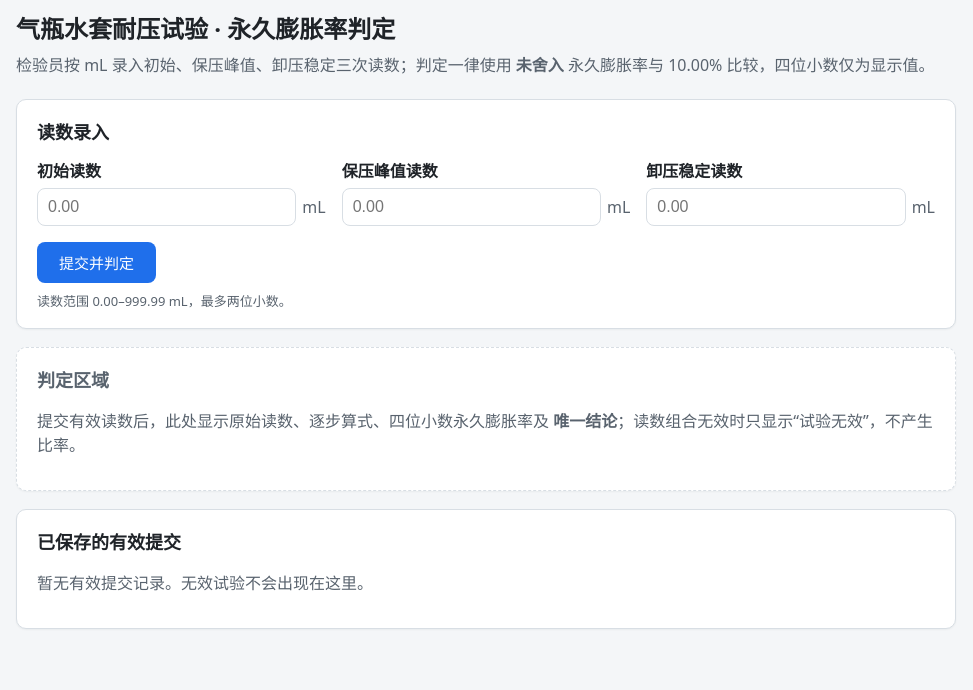
Test: App 判定流程（fetch 为接缝，展示与交互全真实） › 本地形态校验：三位小数与超范围读数不发起请求
Type "1.234" into the field with test id "input-initial".
click(167, 207); type("1.234")  # box x1=37 y1=188 x2=296 y2=226
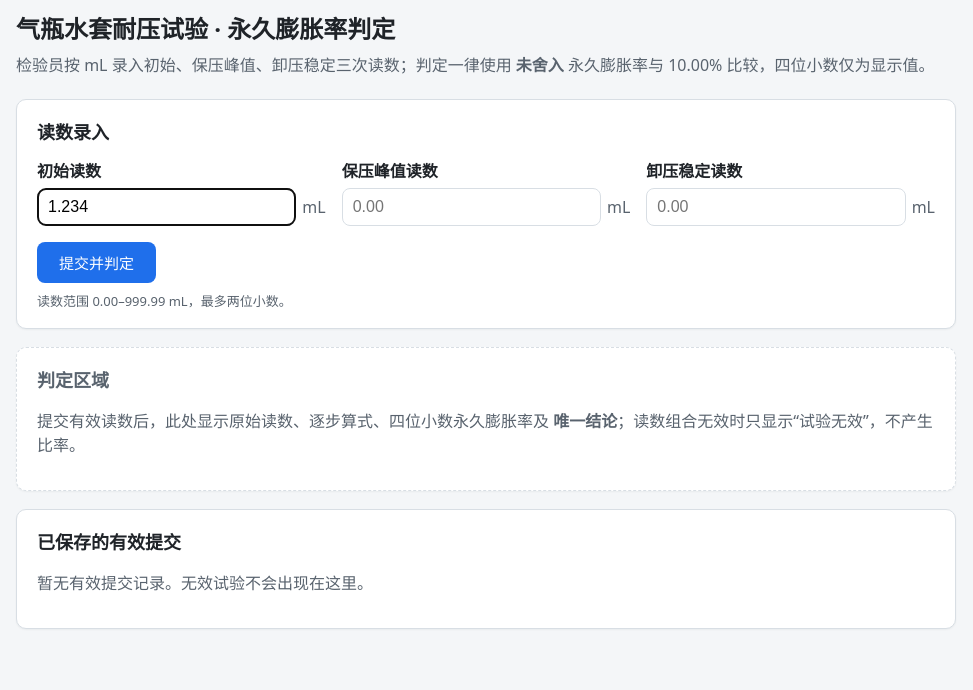
Type "1000.00" into the field with test id "input-peak".
click(471, 207); type("1000.00")  # box x1=342 y1=188 x2=601 y2=226
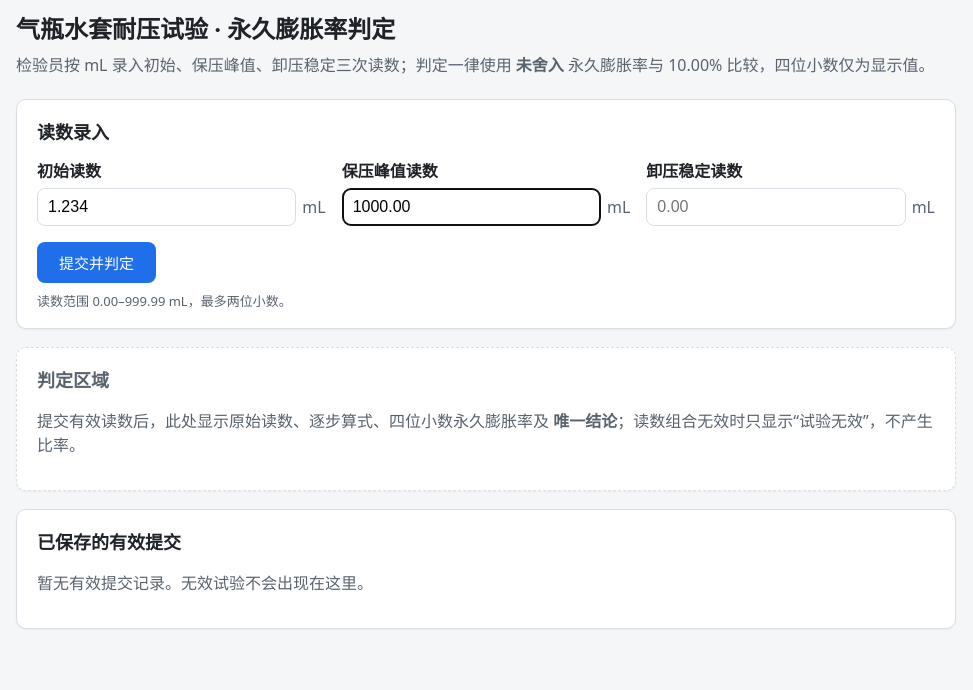
Type "5.00" into the field with test id "input-released".
click(776, 207); type("5.00")  # box x1=646 y1=188 x2=906 y2=226
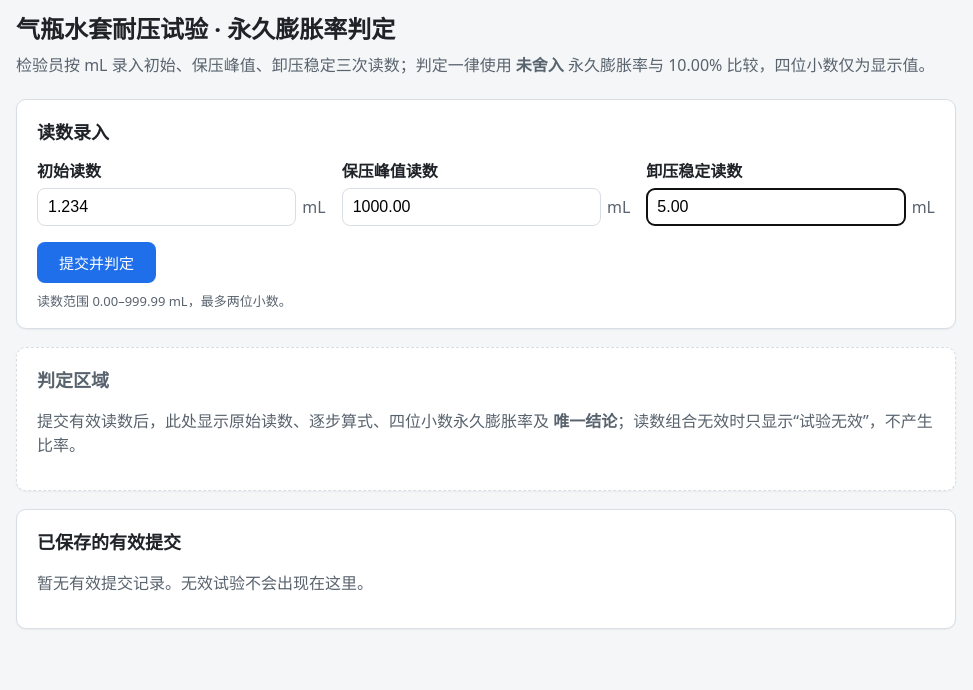
Click the button with test id "submit-button".
click(96, 262)  # box x1=37 y1=242 x2=156 y2=283
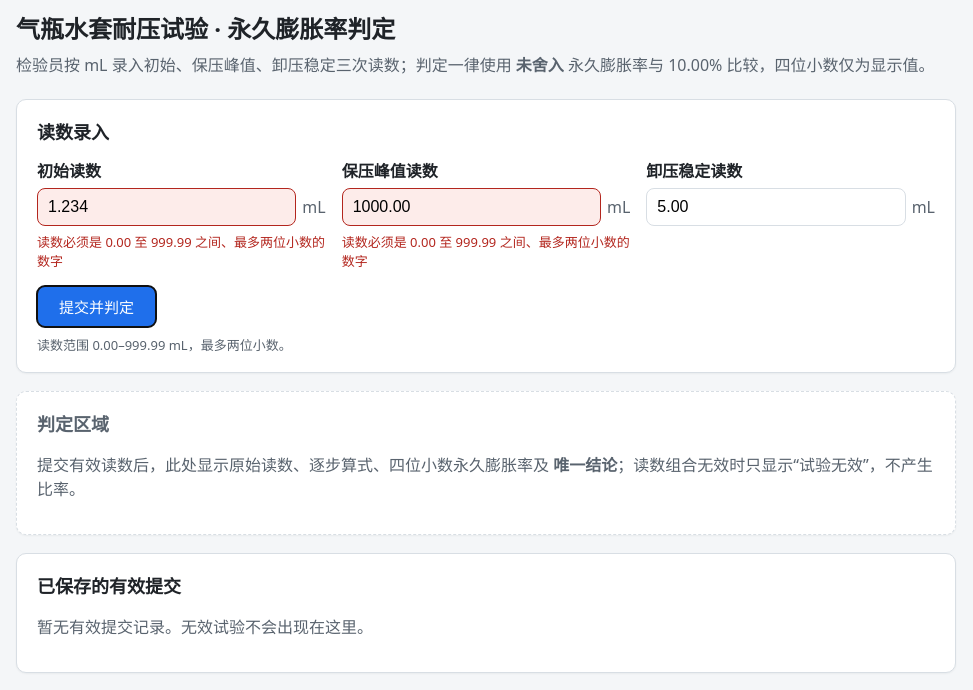
Check: the text with test id "error-initial" shows "两位小数", box x1=37 y1=233 x2=325 y2=270
Check: the text with test id "error-peak" shows "999.99", box x1=342 y1=233 x2=630 y2=270
